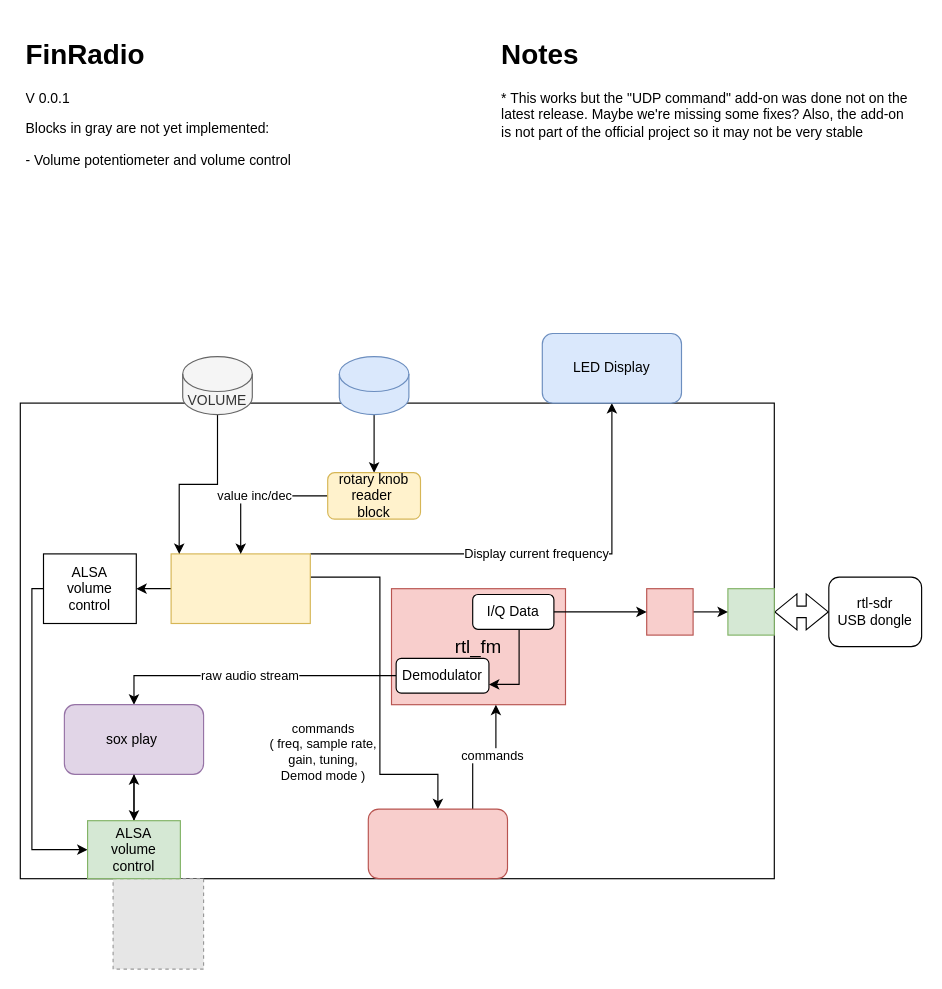
The diagram is 942 pixels wide and 989 high, and some of its shapes have lost their labels. Grey dashed boxes stand in for pictures. The centre of each missing label's shape, as x and y in pixels:
"controller" goes at point (240, 588).
"libusb" goes at point (669, 611).
"localhost socket" goes at point (437, 843).
"TUNING" goes at point (373, 385).
"USB Port" goes at point (750, 611).
